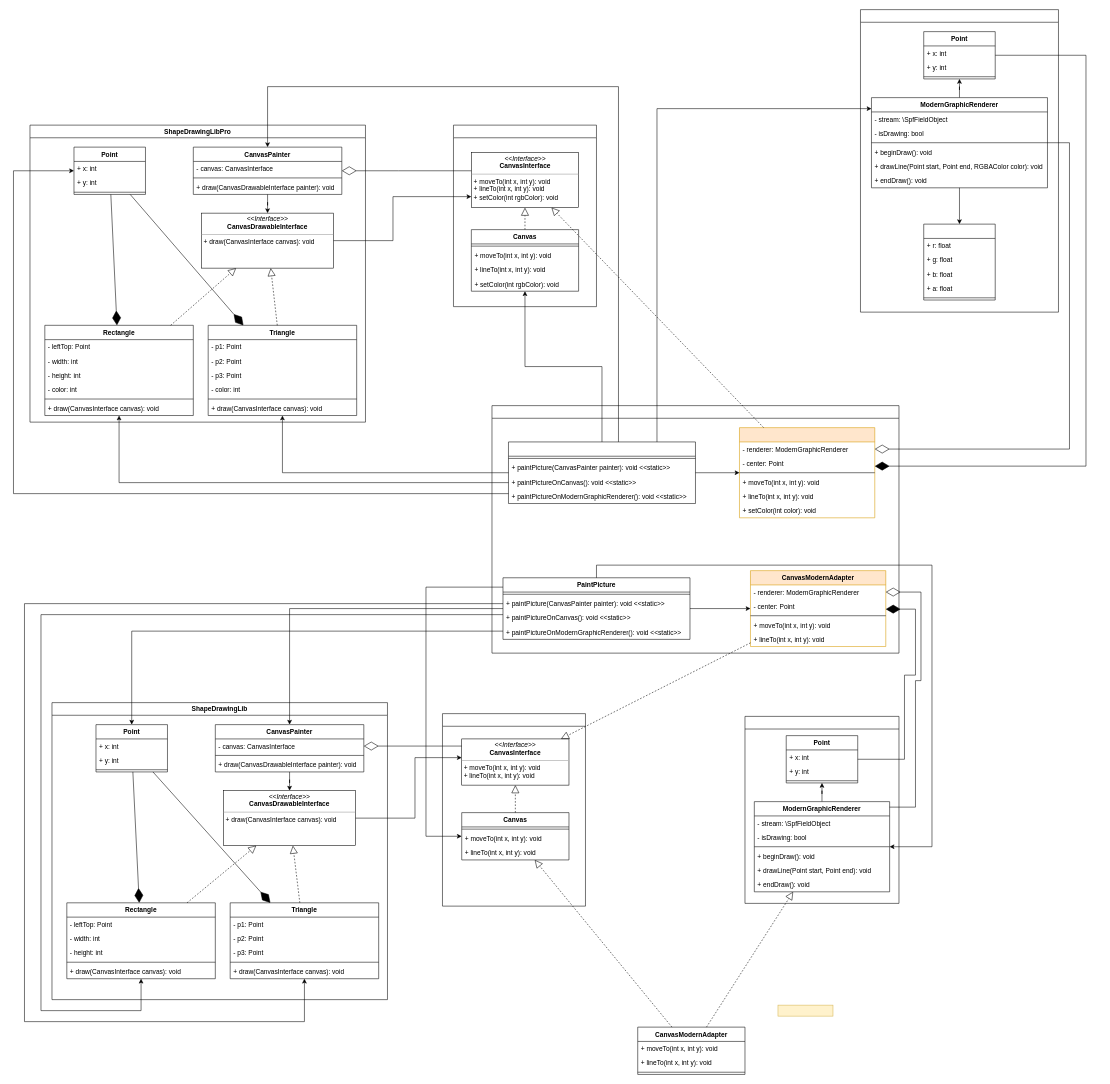
Some shapes in this 1110 by 1084 pixel diagram are drawn without their labels. The box of each missing label's shape, as (x1, y1, x2, y2) in pixels:
App: (491, 405, 899, 653)
CanvasModernAdapterPro: (739, 427, 875, 518)
GraphicsLib: (442, 713, 585, 906)
GraphicsLibPro: (453, 125, 596, 307)
ModernGraphicsLib: (744, 716, 899, 903)
ModernGraphicsLibPro: (860, 9, 1058, 312)
PaintPicturePro: (508, 441, 695, 504)
RGBAColor: (923, 224, 995, 300)
Адаптер класса: (777, 1005, 833, 1016)
